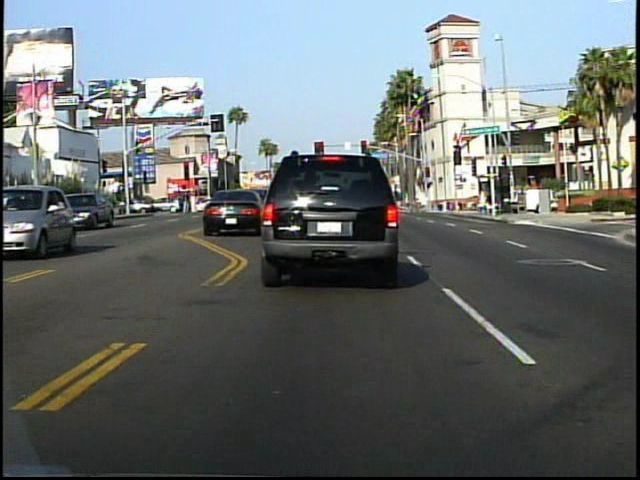person: (180, 185, 192, 219)
